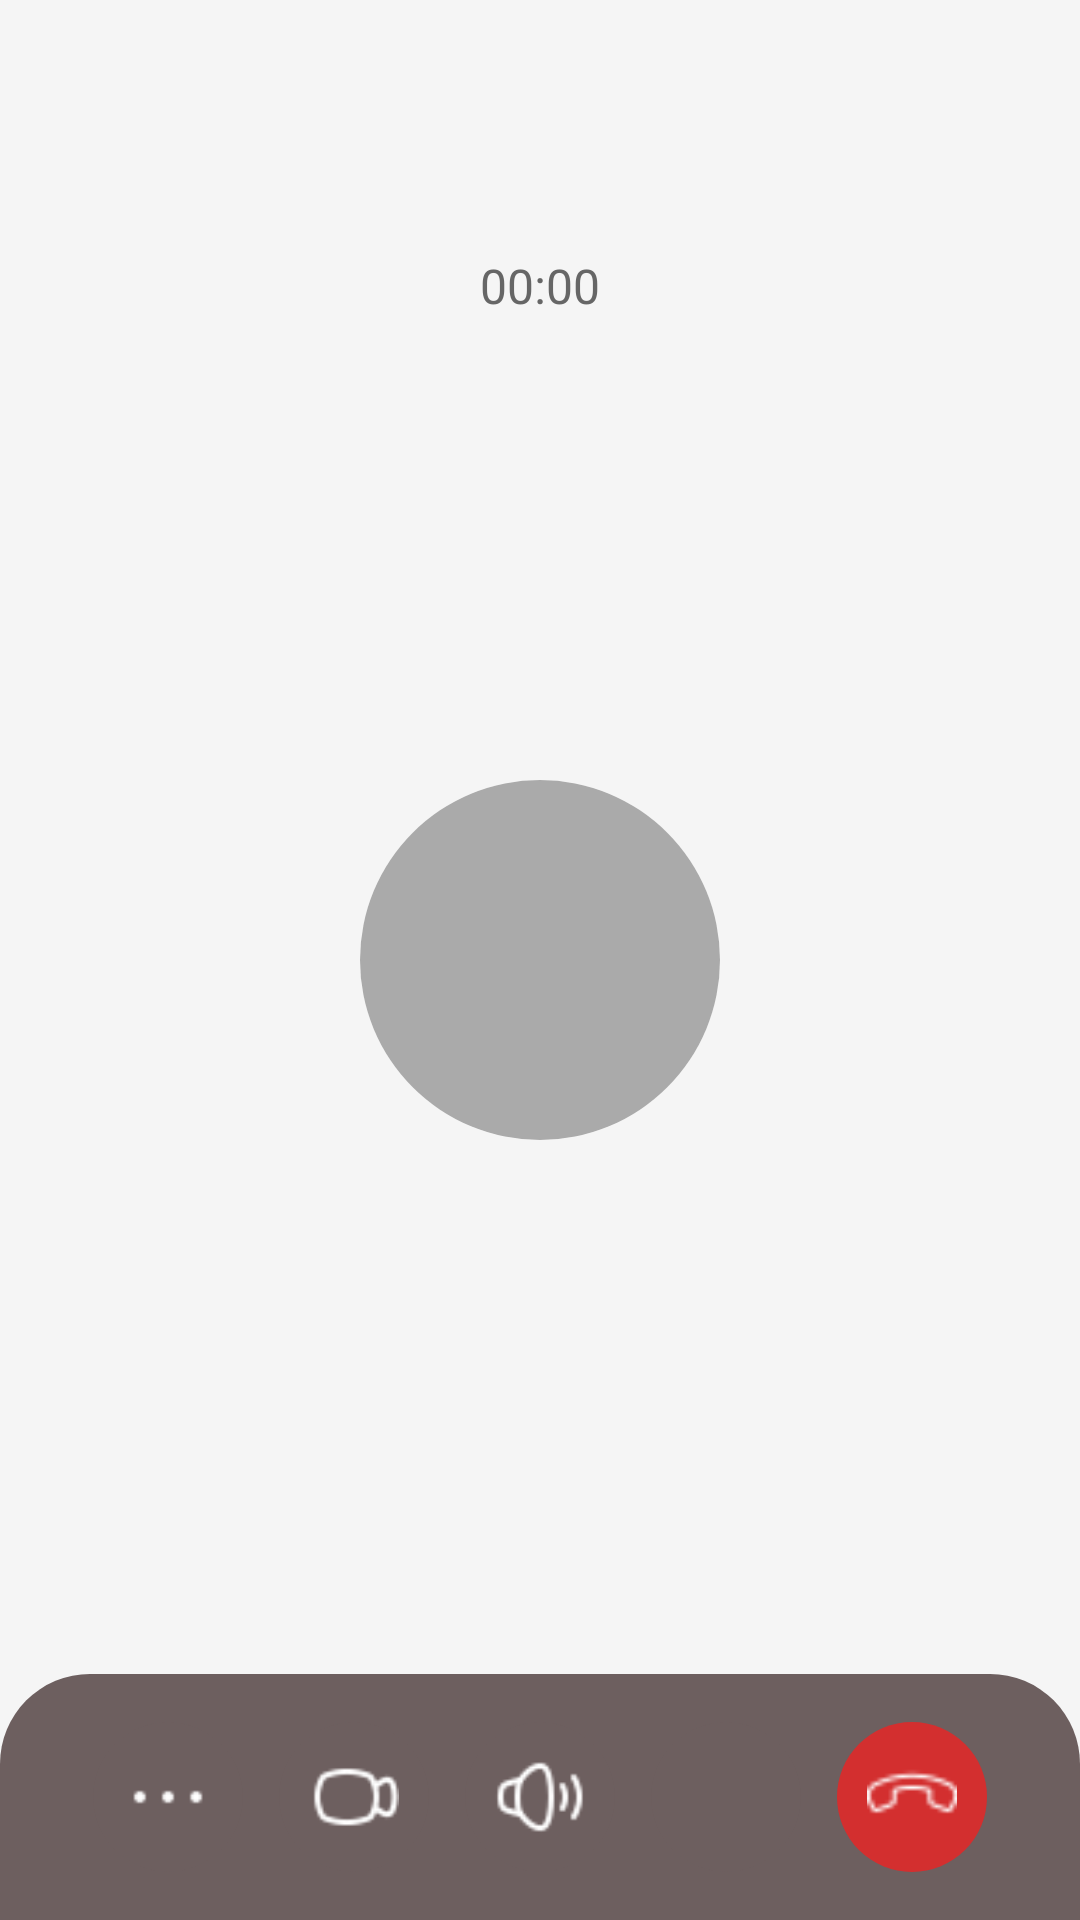

Named icons in this screenshot (1080w x 1920h) and their centers, point (x, y):
end call: point (912, 1797)
speaker on: point (540, 1797)
three dots: point (168, 1797)
video call: point (356, 1797)
